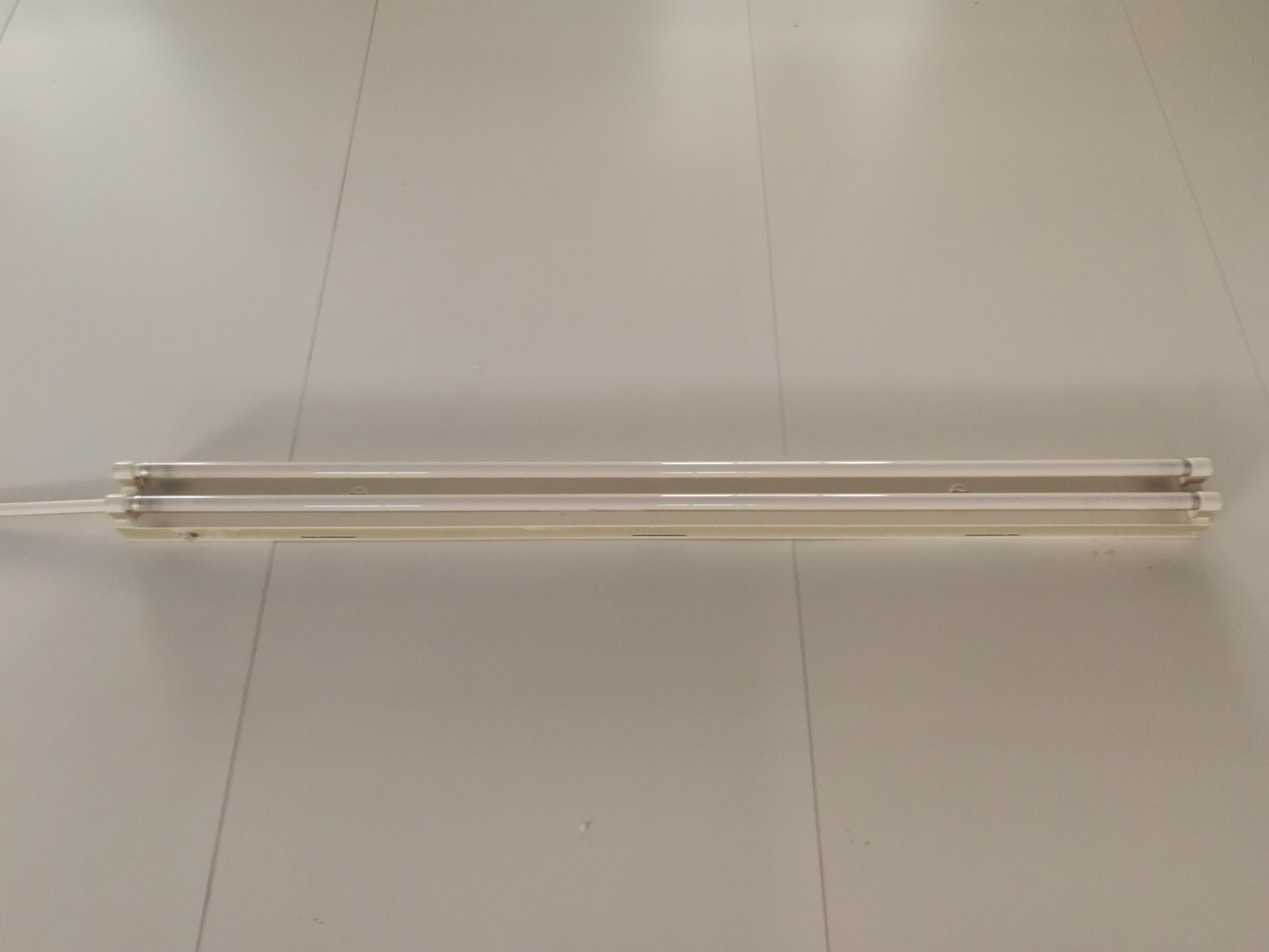light: (105, 455, 1222, 542)
